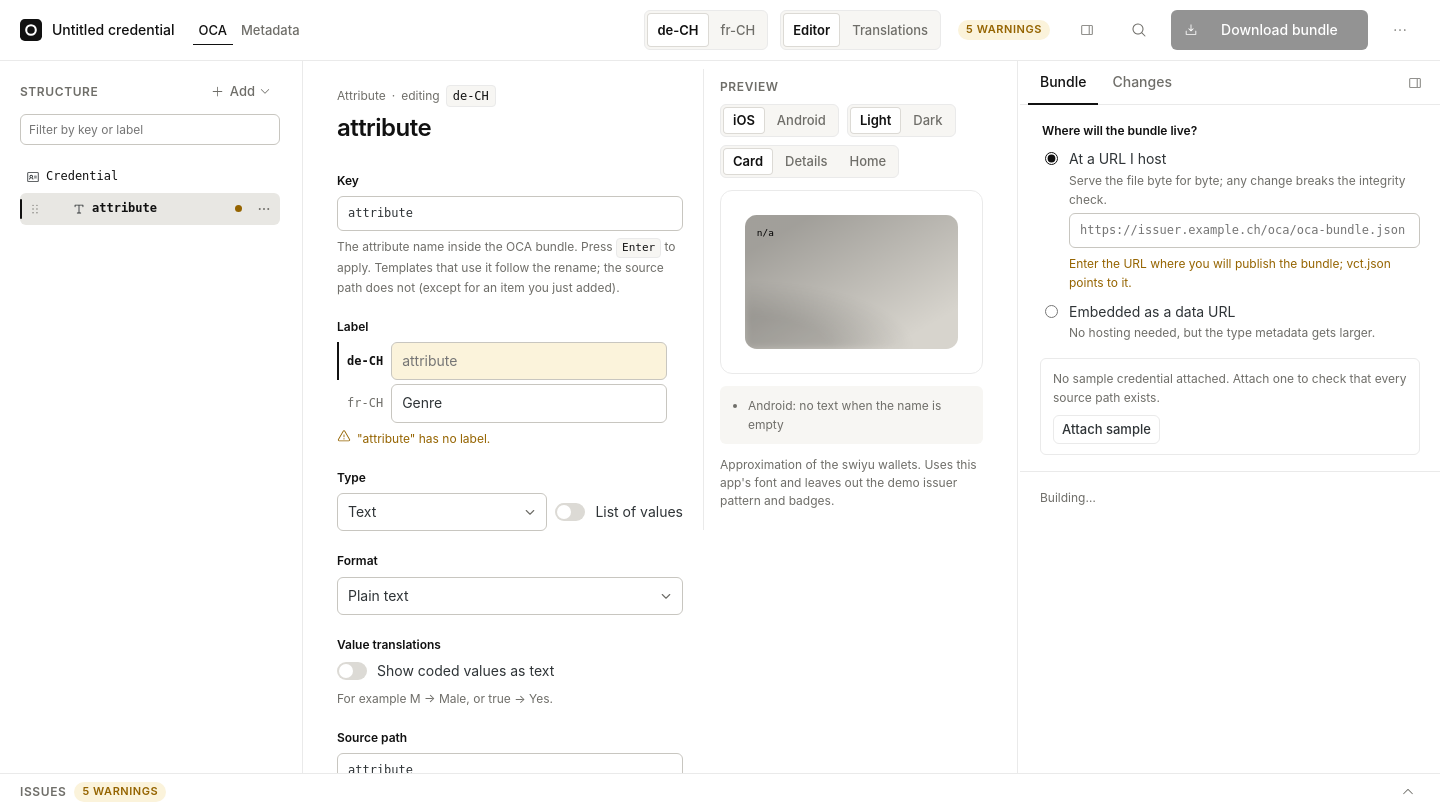
Test: I14Y suggestions › fills the attribute from a concept picked while typing the label
Type "Gesch" into the dropdown labelled "Label".
click(529, 361); type("Gesch")  # box left=391, top=342, right=667, bottom=380
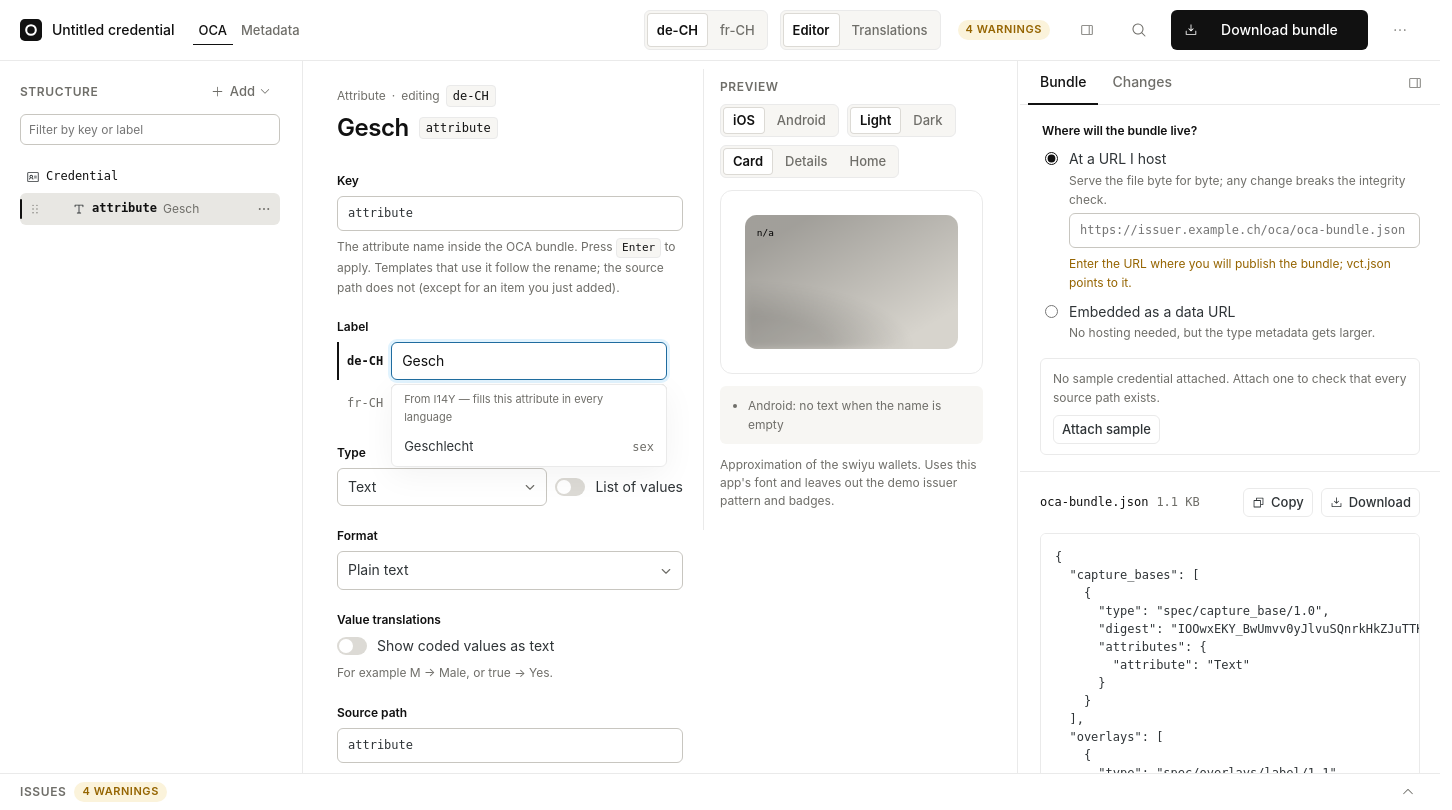
Click the option "Geschlecht sex".
click(439, 446)  # box left=404, top=438, right=654, bottom=454
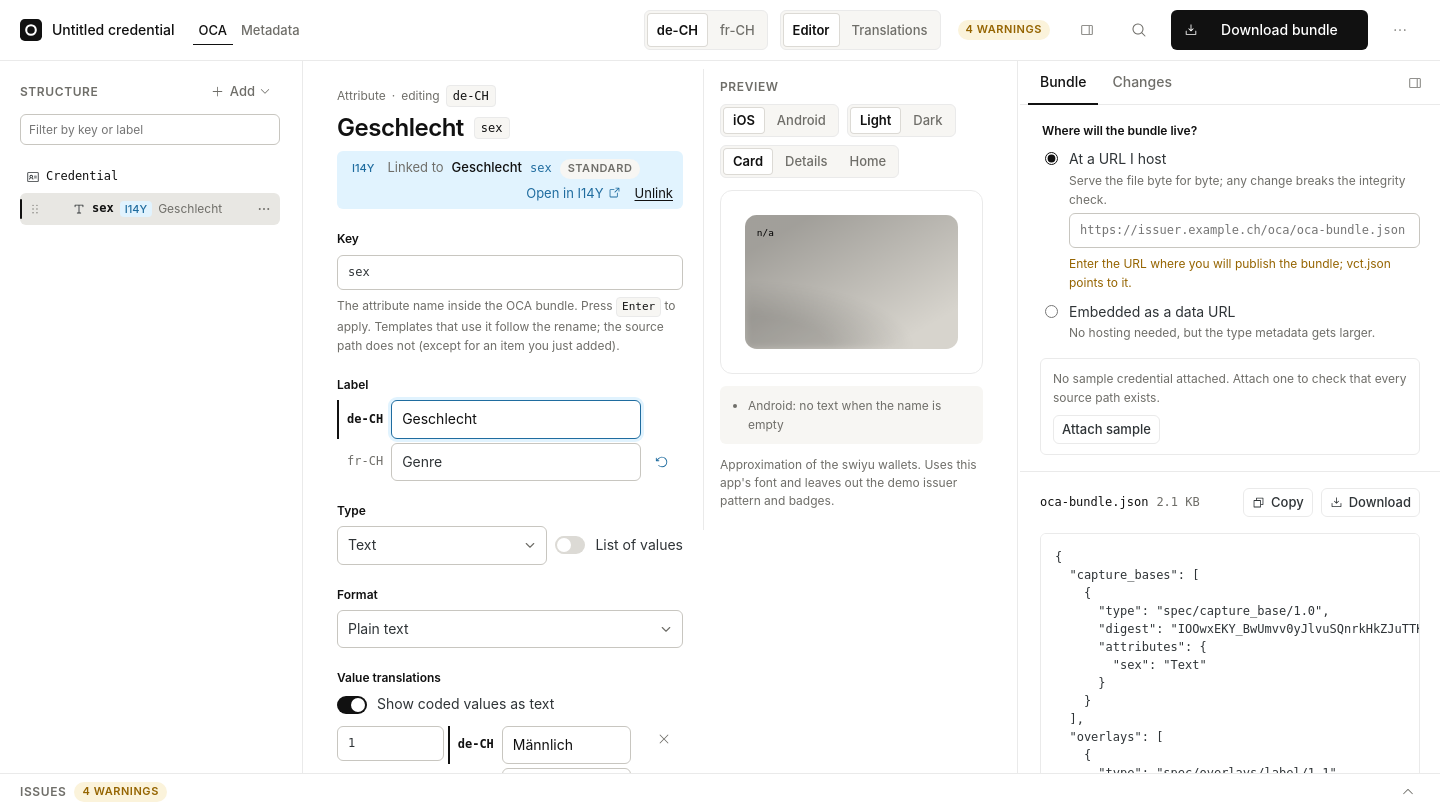
Expected: the text "sex" below "Structure" is shown, left=92, top=201, right=114, bottom=215
